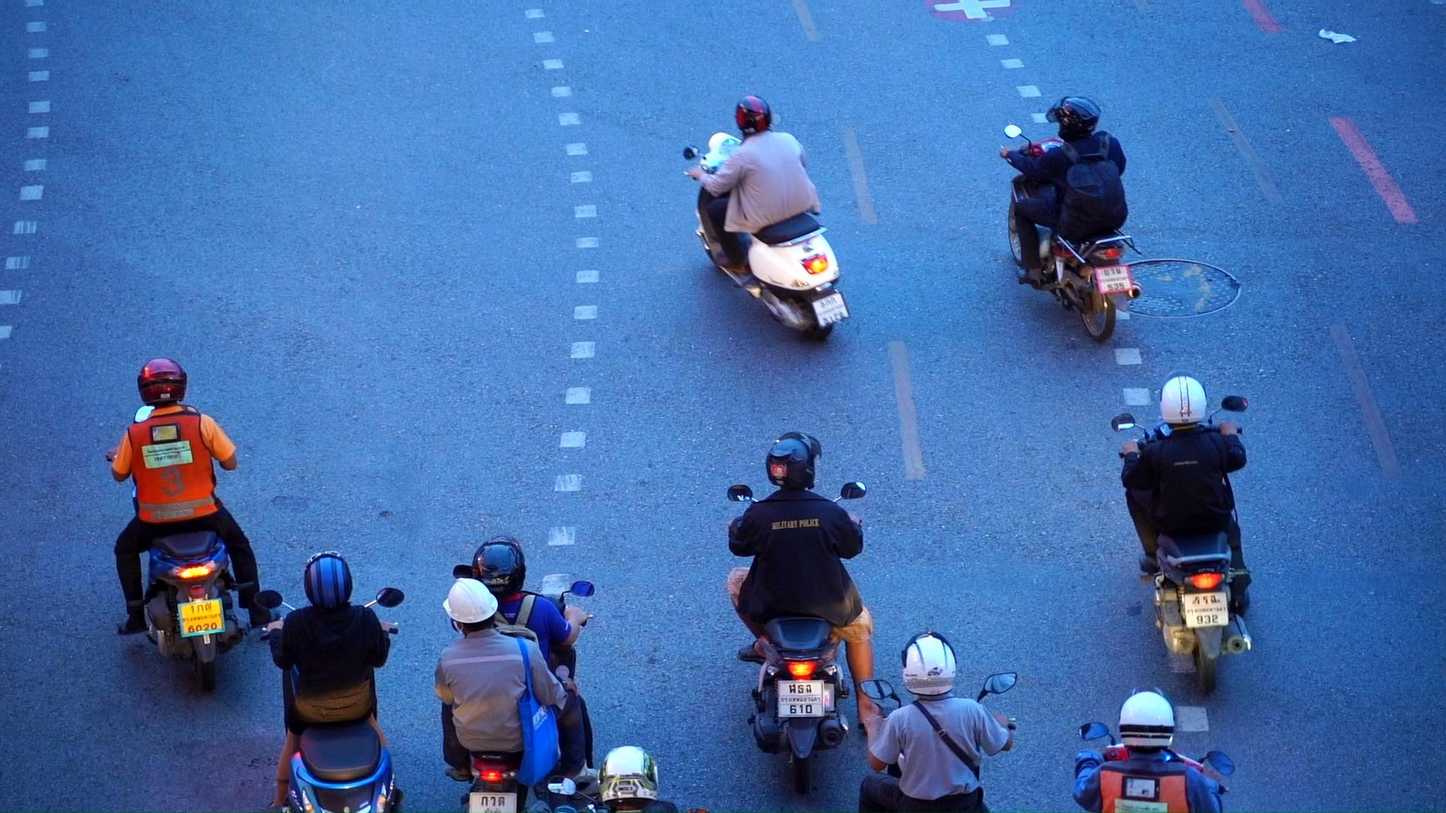driver: (725, 432, 899, 794), (104, 358, 282, 692), (434, 535, 601, 813), (1112, 369, 1252, 696), (684, 94, 851, 344), (254, 551, 404, 813), (1001, 96, 1144, 344), (858, 631, 1018, 813), (1073, 687, 1234, 813)
helmet: (1118, 687, 1176, 754), (597, 746, 658, 809), (901, 631, 957, 696), (471, 535, 526, 598), (765, 432, 822, 489), (443, 577, 498, 636), (1159, 369, 1207, 430), (303, 551, 353, 609), (1045, 96, 1102, 144), (138, 358, 187, 406), (735, 94, 772, 137)
